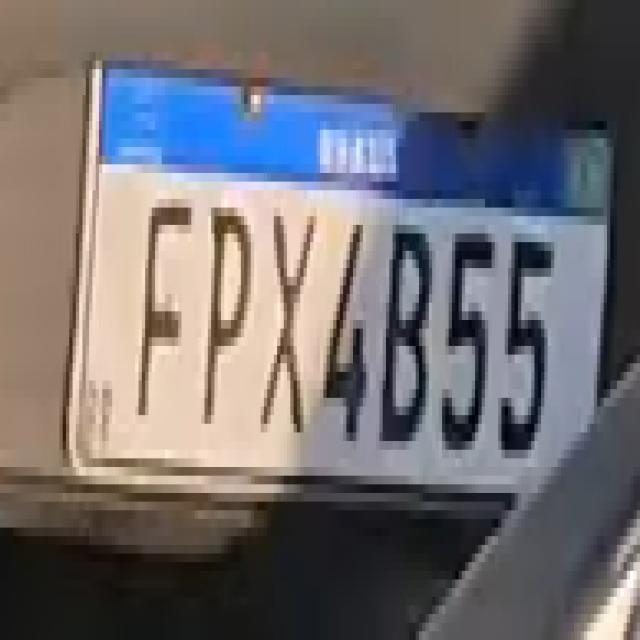Placa_mercosul_carro: (63, 56, 614, 495)
